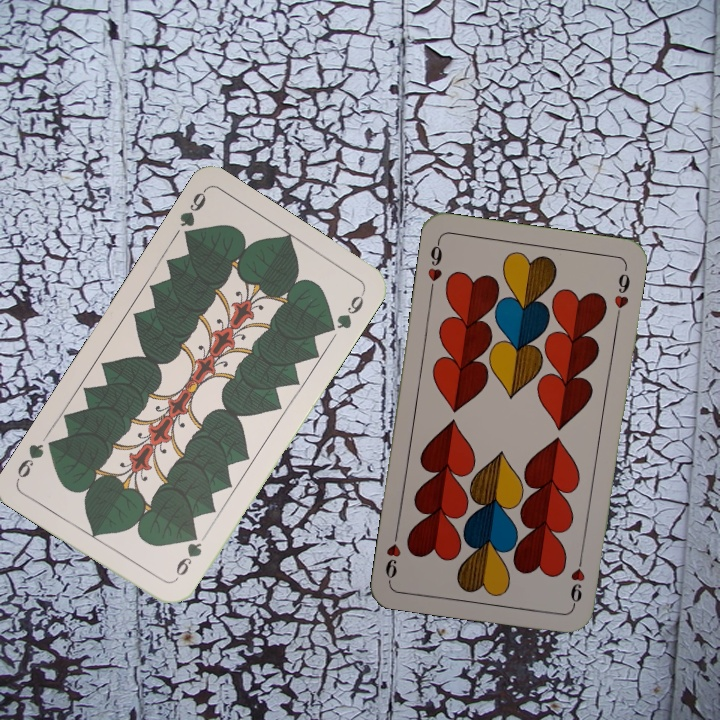G9: (175, 186, 209, 245), (170, 528, 205, 584)
H9: (423, 236, 445, 295), (566, 550, 588, 609)
